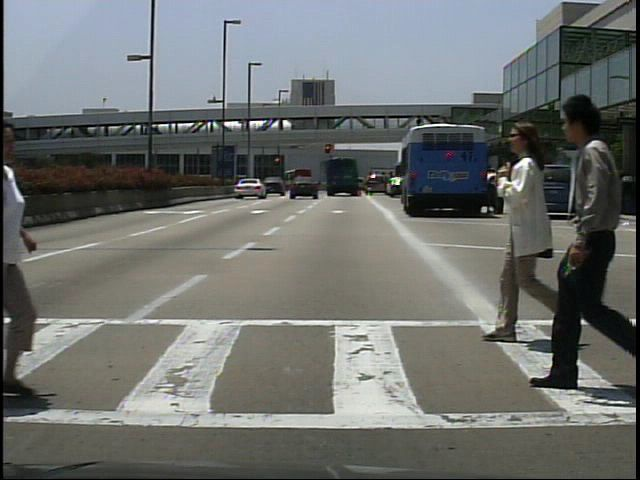person: (524, 77, 640, 395), (475, 117, 575, 349), (582, 168, 602, 218), (485, 162, 502, 215), (510, 166, 517, 216)
